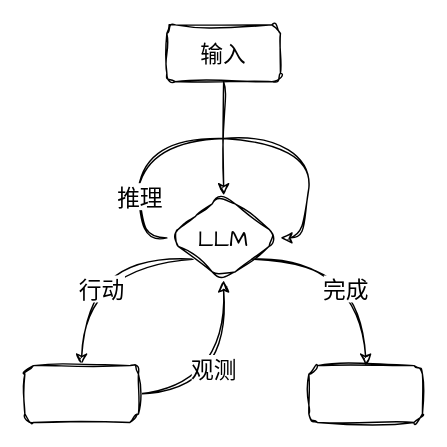
This 447x447 diagram has some shape labels left out. The shapes that lost their labels are listed below. From the top down, each one's centre as x and y in pixels, then its label:
At point 80,393: "工具".
At point 364,393: "输出".
